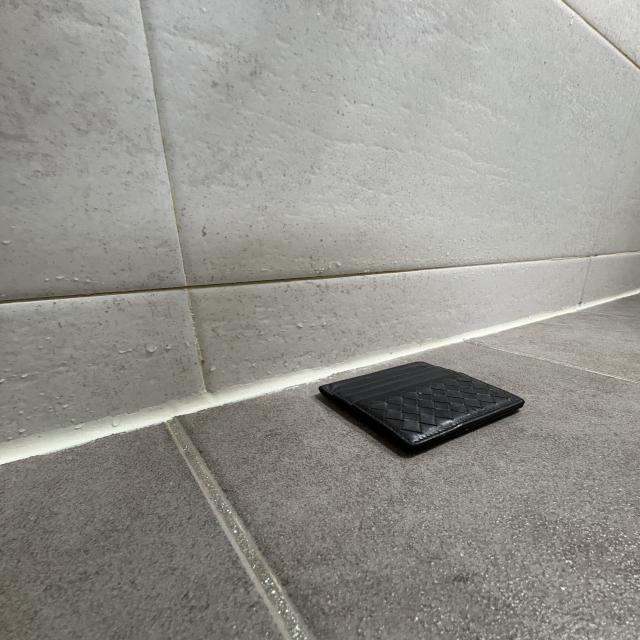wallet: (318, 358, 528, 462)
